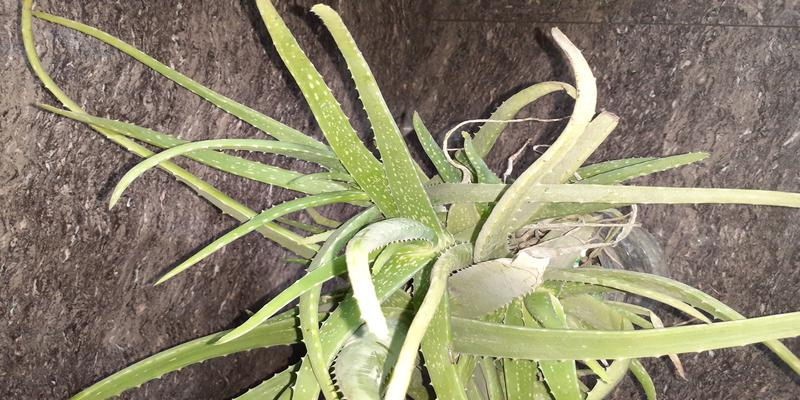Aloevera: (208, 147, 606, 378)
